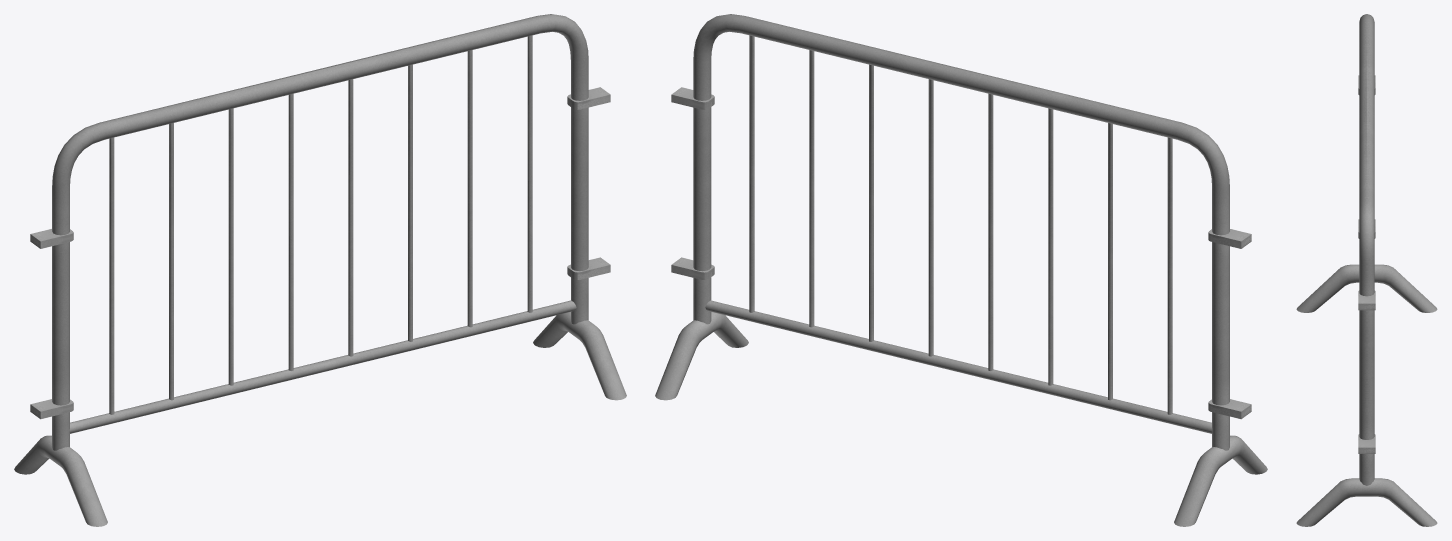
File: BarricadeFence_Short.fbx
3 views of the same model, side by side, from view 1: azimuth 30°, elevation 25°; view 2: azimuth 150°, elevation 25°; view 3: azimuth 270°, elevation 25° (orthographic). The views are drawn at different scales.
Visible parts, largest first — view 1: ShortFence; view 2: ShortFence; view 3: ShortFence.
Boxes of the visible parts, box(x1,y1,x2,y2) form: ShortFence: box(14, 14, 626, 526); ShortFence: box(655, 14, 1267, 526); ShortFence: box(1296, 14, 1437, 526).
Bounding box in the file's own units: 67.33 × 40.96 × 17.1.
Materials: 1 (1 with a texture image).
